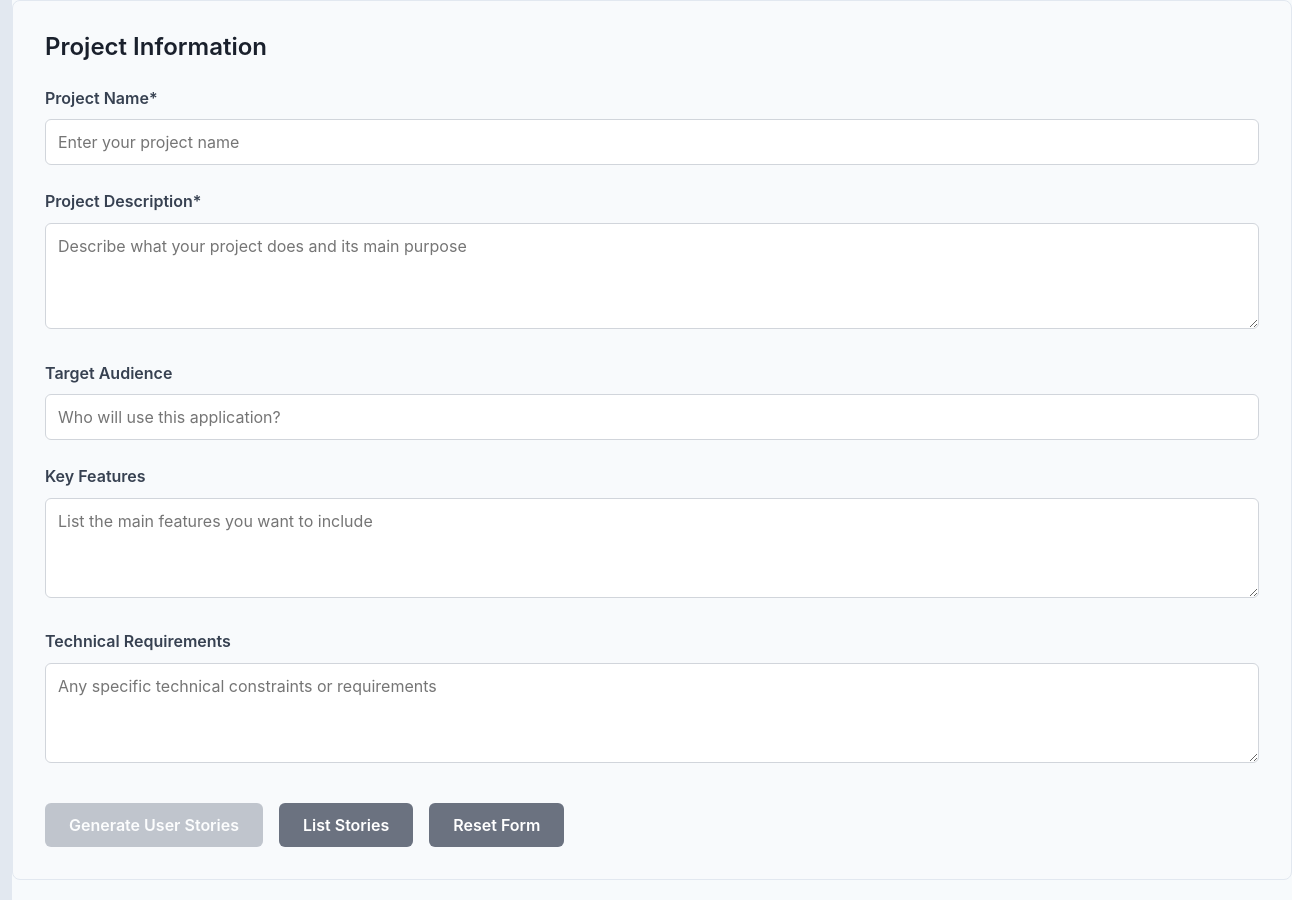
Test: StoryGenerator Component › Form Submission - Success Cases › submits form successfully and displays generated story
The image size is (1292, 900).
Type "Test Project" into the field labelled "Project Name*" at (652, 142), box [45,119,1259,165]
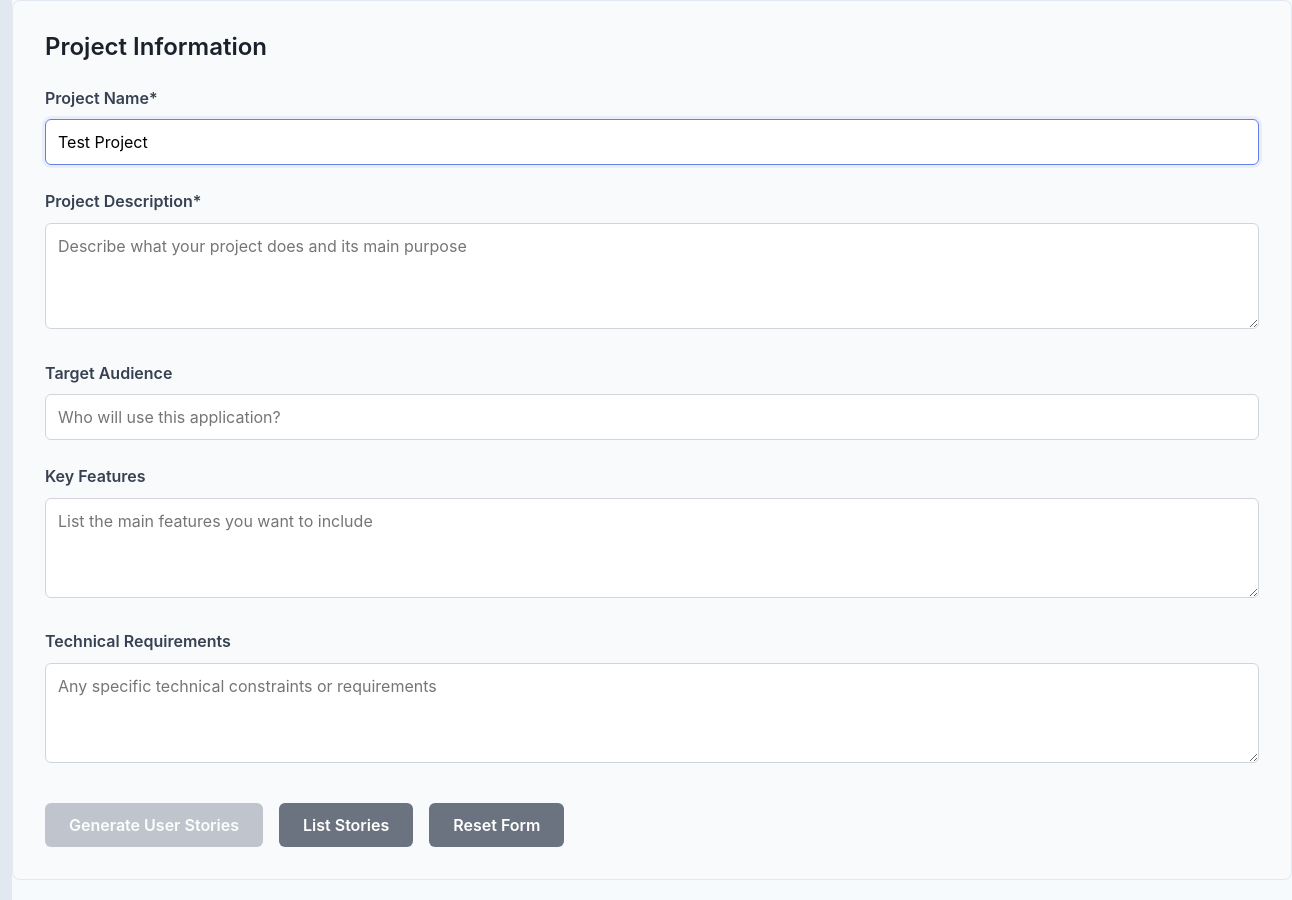
Type "A comprehensive test project for story generation" into the text box labelled "Project Description*" at (652, 276), box [45,223,1259,329]
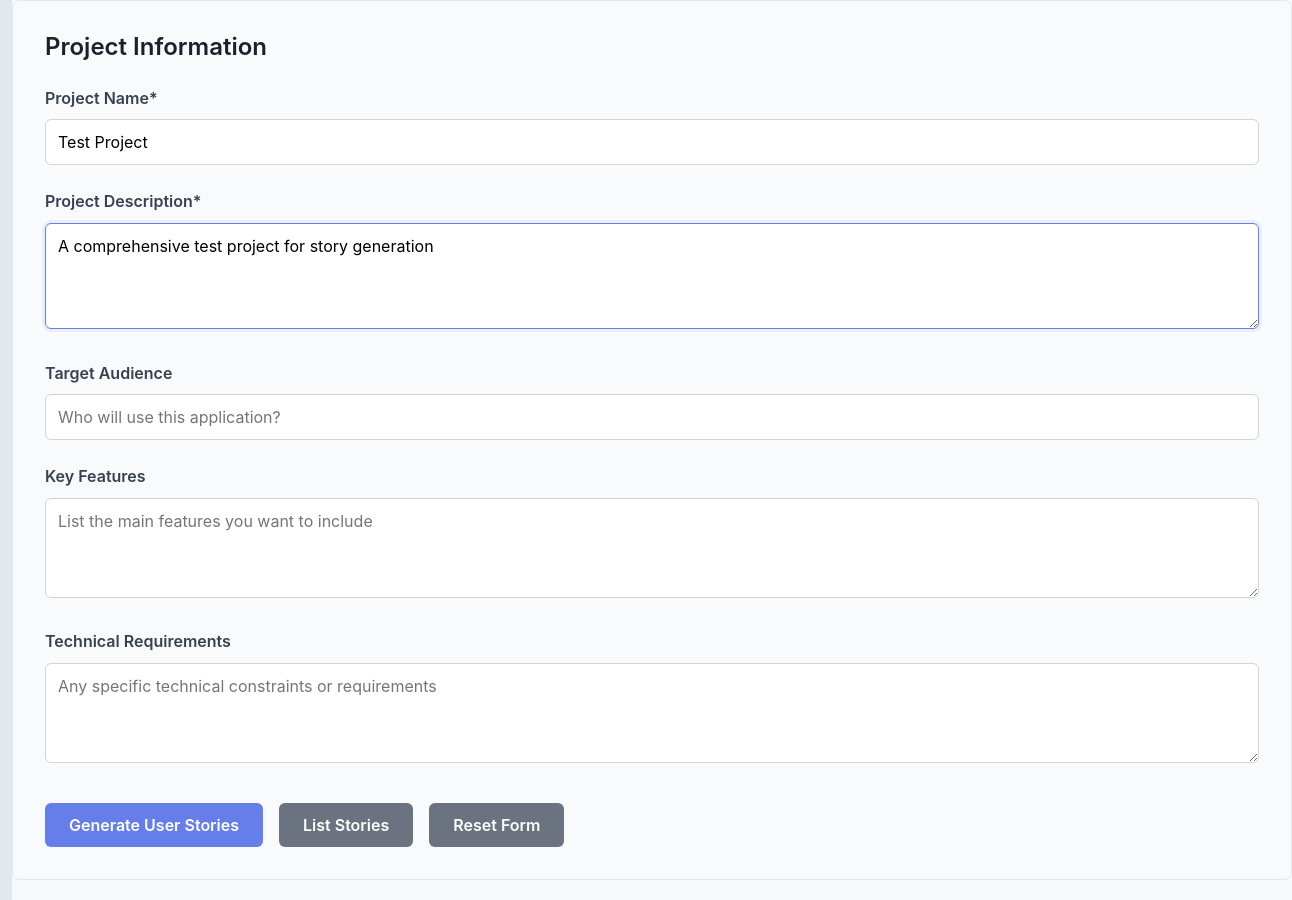
Type "Developers and QA engineers" into the field with id "targetAudience" at (652, 417), box [45,394,1259,440]
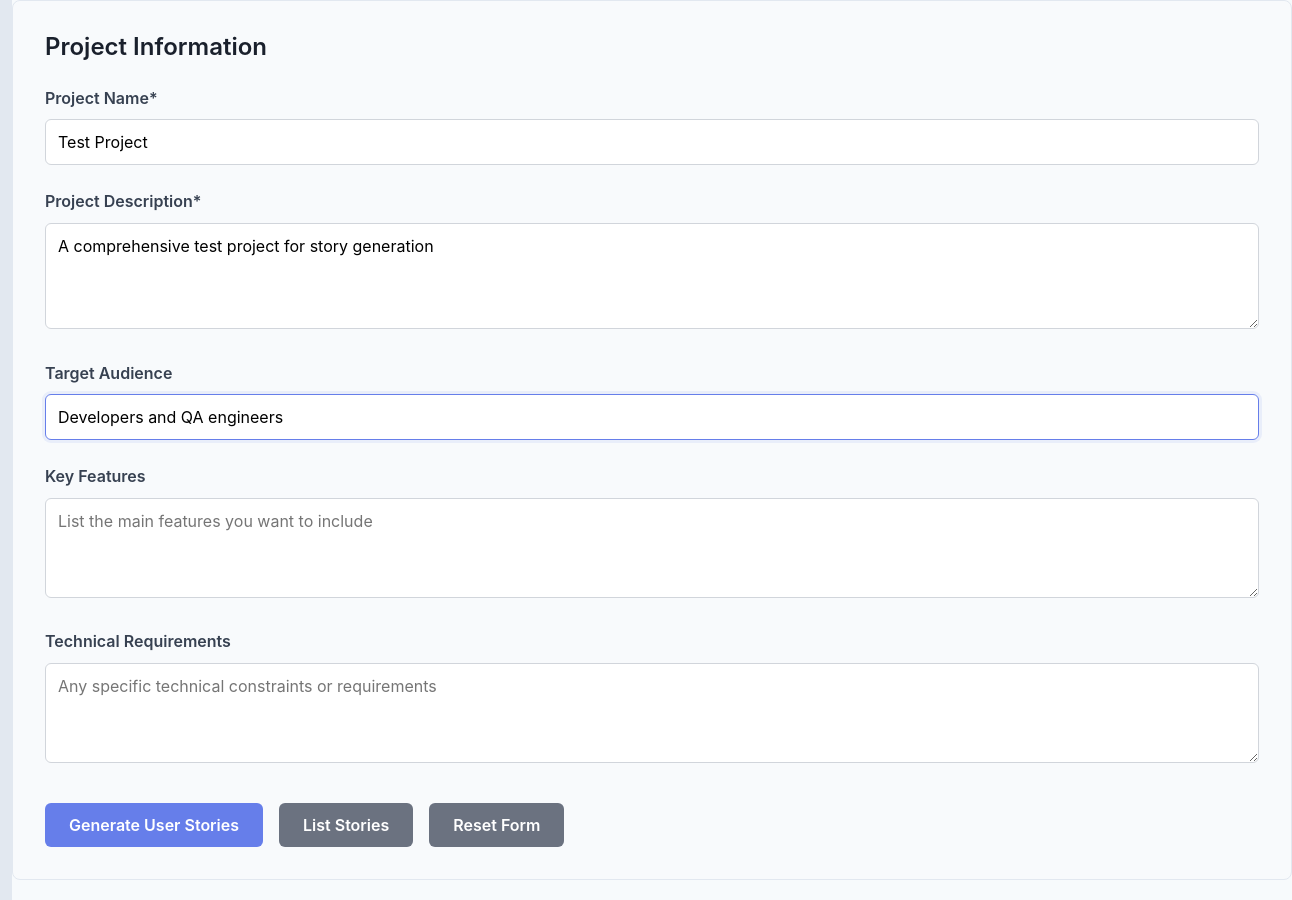
Type "User authentication, Story generation, API integration" into the text box with id "keyFeatures" at (652, 548), box [45,498,1259,598]
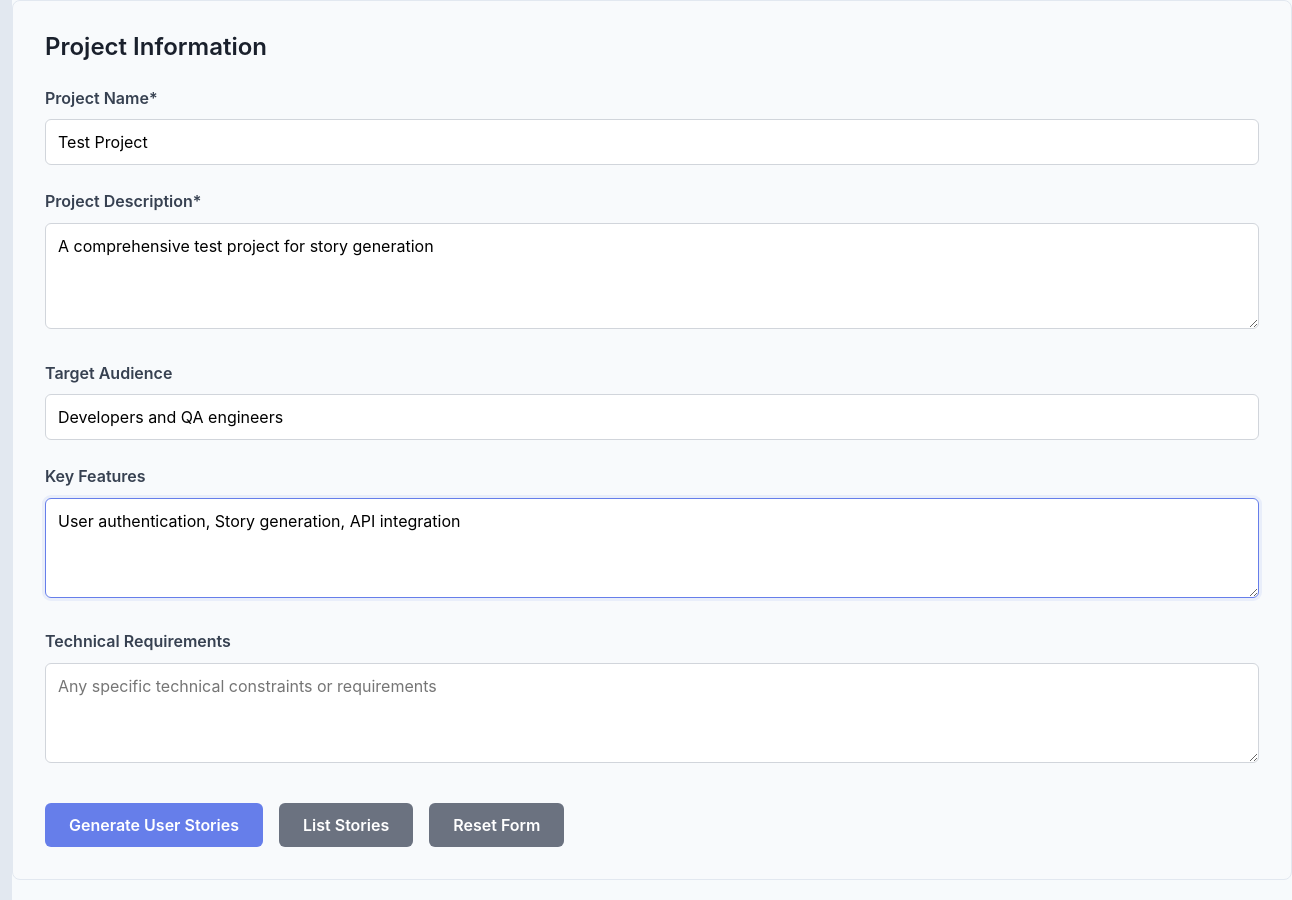
Type "React, FastAPI, PostgreSQL" into the text box with id "technicalRequirements" at (652, 713), box [45,663,1259,763]
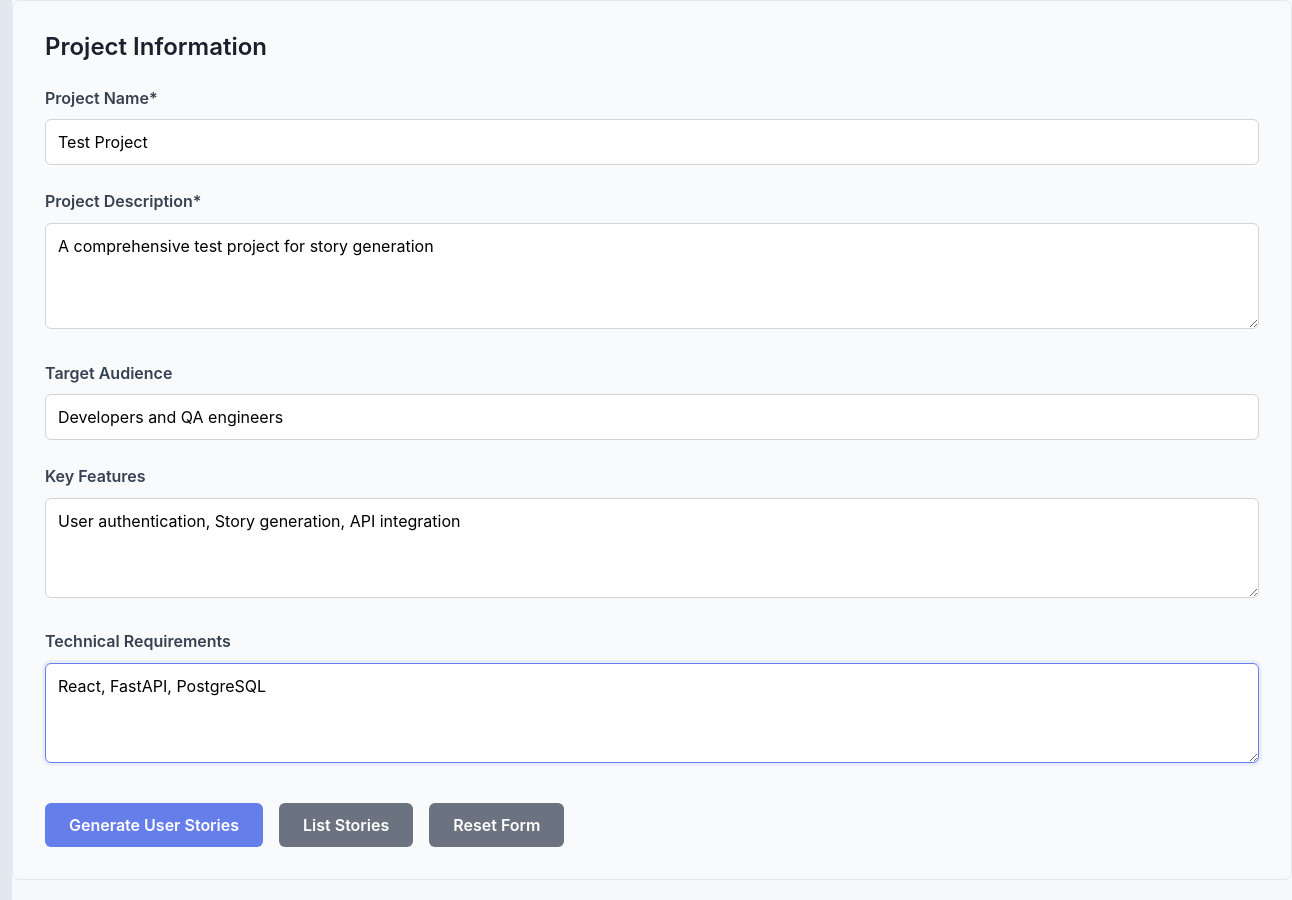
Click the button "Generate User Stories" at (154, 824), box [45,802,263,846]
(page scrolled)
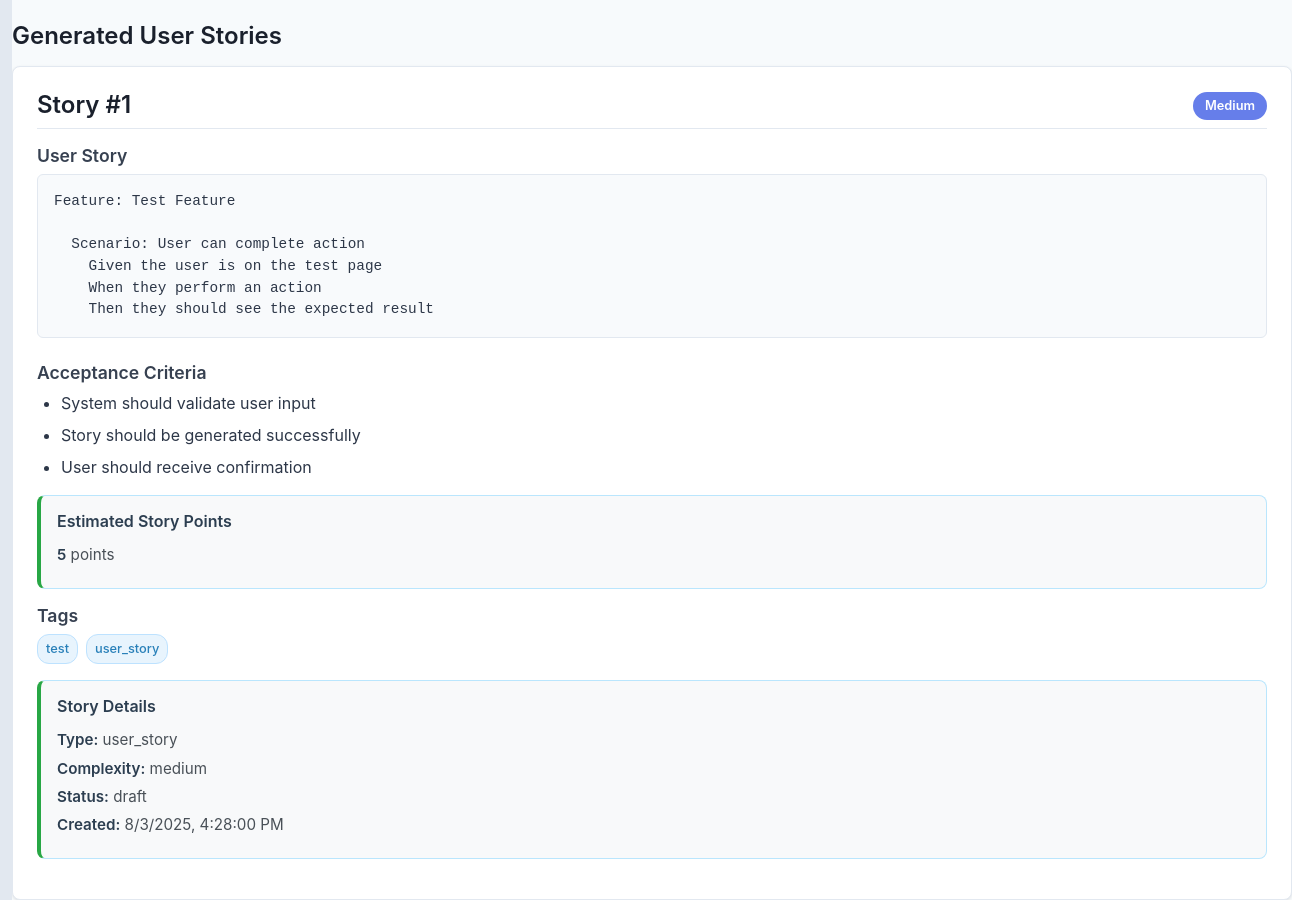
Expected: the element with class "story-card" is shown
Expected: the element with class "generated-stories" is shown
Expected: the heading "Generated User Stories" is shown, [12,20,282,50]
